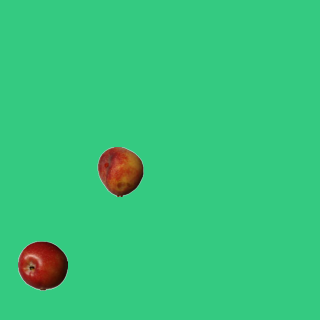Apple Braeburn: (17, 240, 67, 290)
Peach: (95, 146, 145, 196)
